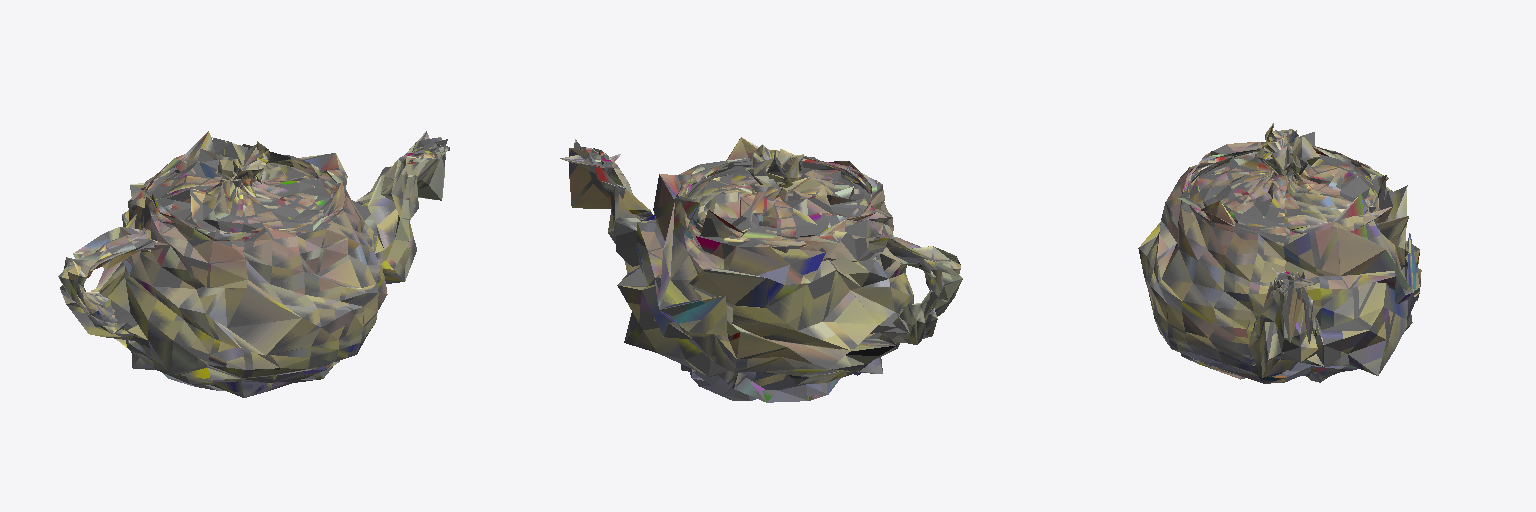
The picture shows the model from 3 angles: view 1: azimuth 30°, elevation 25°; view 2: azimuth 150°, elevation 25°; view 3: azimuth 270°, elevation 25°; orthographic projection.
Size of the model in its own units: 2 by 1.09 by 1.25.
Materials: 1 (1 with a texture image).